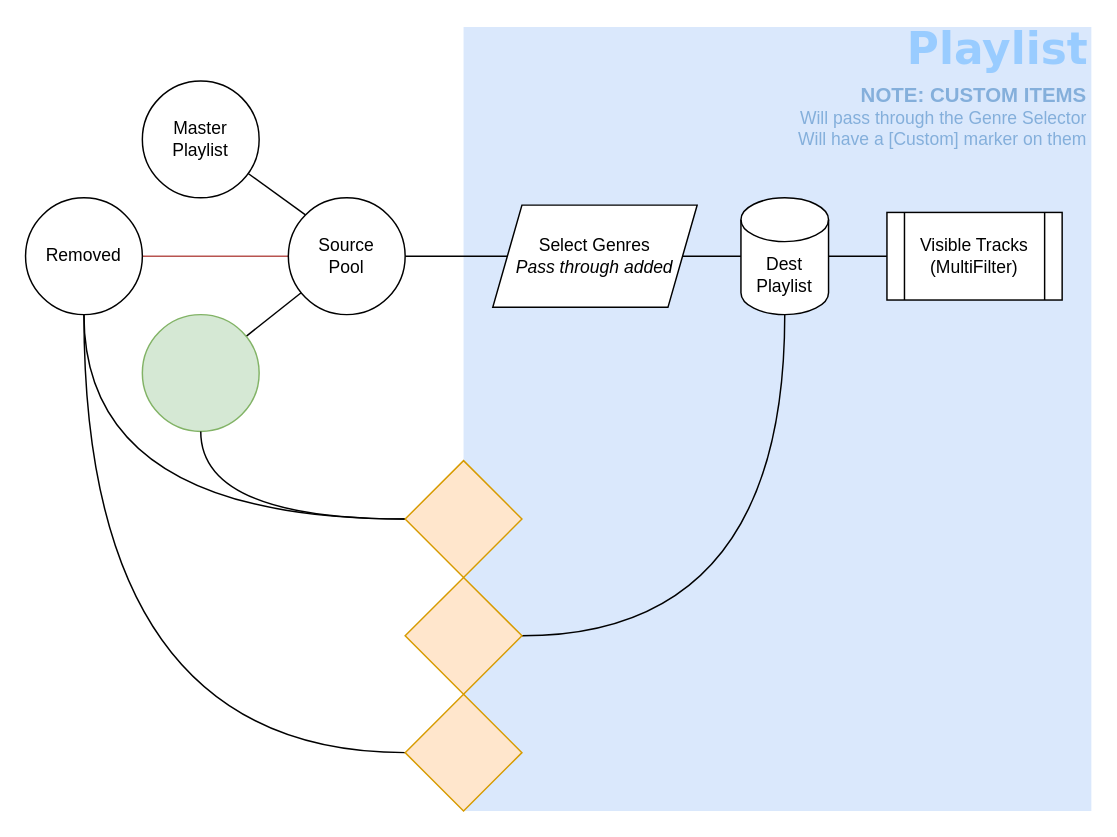
Some shapes in this 1117 by 837 pixel diagram are drawn without their labels. The shapes that lost their labels are listed below. From the top down, each one's centre as x and y in pixels, then its label:
pixel 200 372: Custom Added
pixel 463 518: Drag
pixel 463 635: Sort
pixel 463 752: Delete
